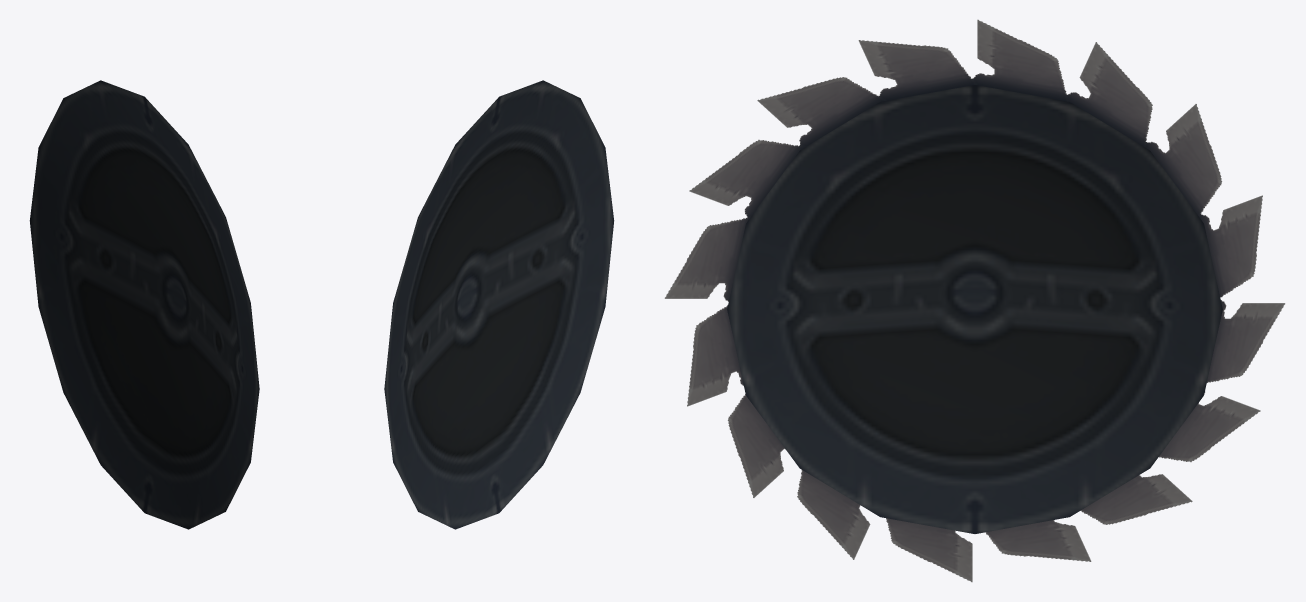
The model's file is model_weapon.glb.
3 views of the same model, side by side, from view 1: azimuth 30°, elevation 25°; view 2: azimuth 150°, elevation 25°; view 3: azimuth 270°, elevation 25° (orthographic). The views are drawn at different scales.
Visible parts, largest first — view 1: stalker.model_weapon-MeshNodes["mesh_saw"]; view 2: stalker.model_weapon-MeshNodes["mesh_saw"]; view 3: stalker.model_weapon-MeshNodes["mesh_saw"], stalker.model_weapon-MeshNodes["mesh_blade"].
Boxes of the visible parts, <box> form: stalker.model_weapon-MeshNodes["mesh_saw"]: <box>29,80,259,529</box>; stalker.model_weapon-MeshNodes["mesh_saw"]: <box>384,80,614,529</box>; stalker.model_weapon-MeshNodes["mesh_saw"]: <box>727,85,1222,533</box>; stalker.model_weapon-MeshNodes["mesh_blade"]: <box>664,19,1285,582</box>.
Bounding box in the file's own units: 0.044 × 0.6 × 0.6.
1 material, 1 textured.
